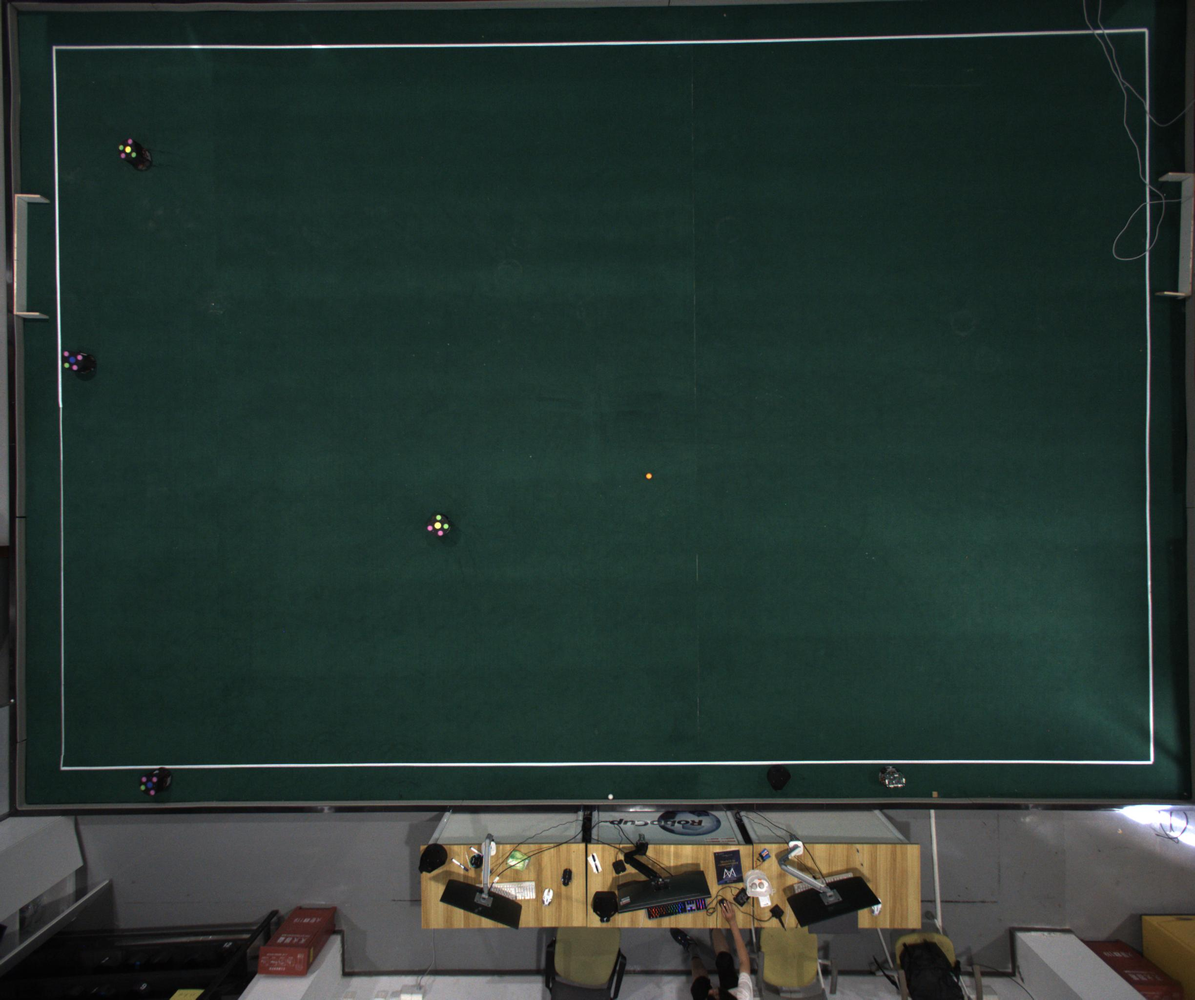ball: (646, 472, 652, 480)
blue_bot: (62, 350, 84, 372), (139, 776, 160, 796)
yellow_bot: (427, 514, 450, 537), (119, 138, 138, 161)
